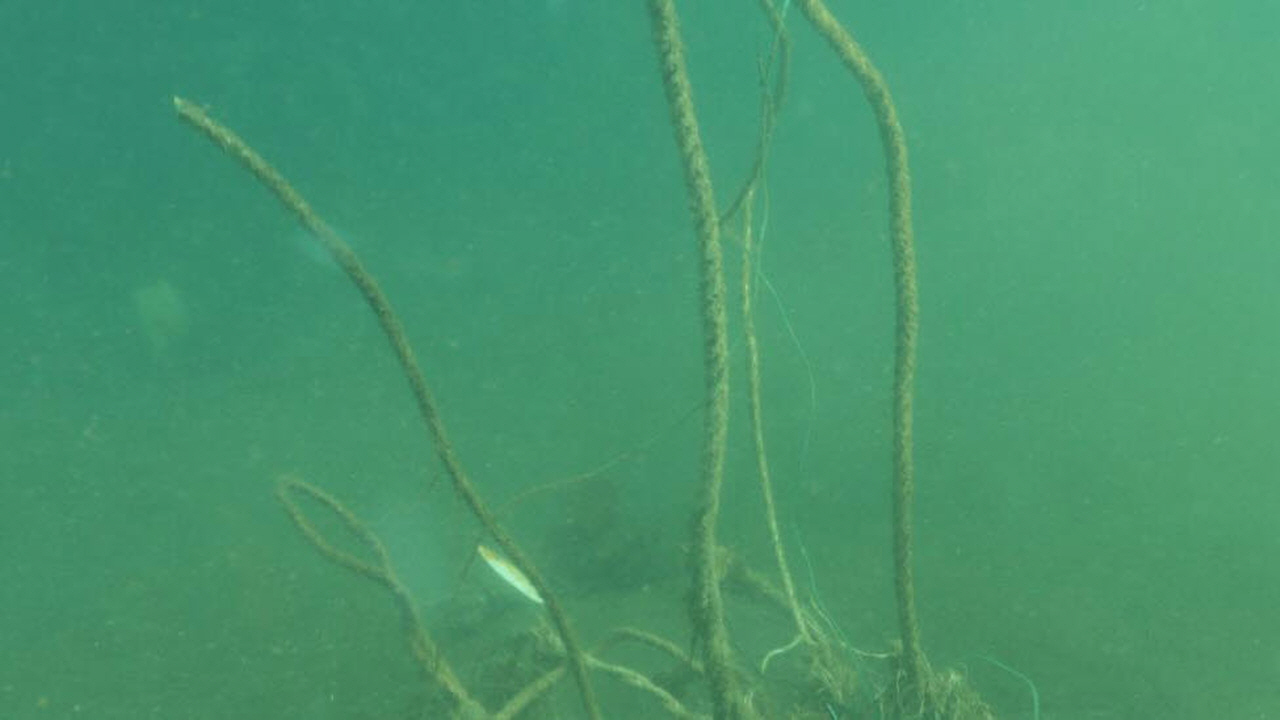bundle of ropes: (170, 0, 935, 720)
